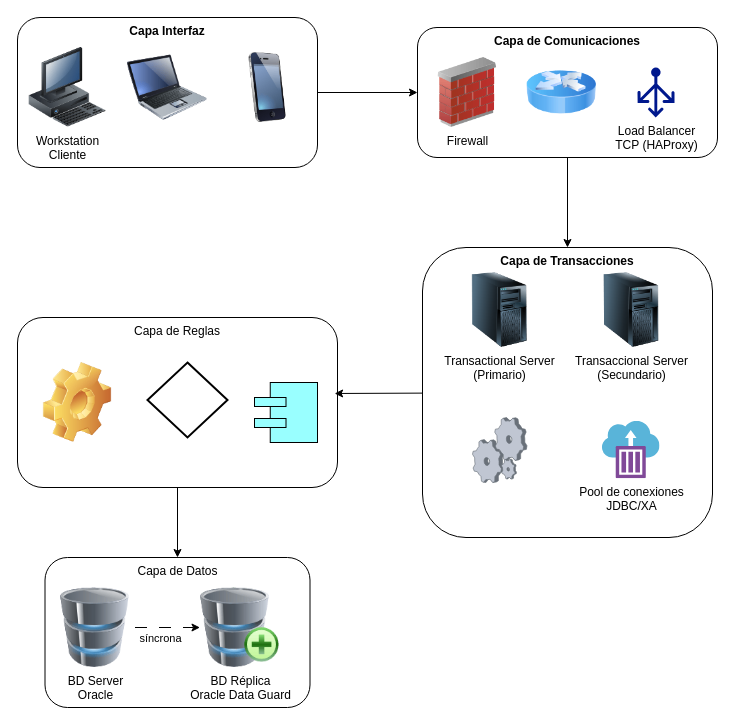
This 735x725 diagram has some shape labels left out. The centre of each missing label's shape, as x and y in pixels:
Cliente remoto (laptop): pixel 167 87
Cliente remoto (móvil): pixel 267 87
Componentes de servicio: pixel 286 412
Motor de reglas: pixel 77 402
Router: pixel 561 92
Transaction Manager XA Coordinator: pixel 499 449
Validadores: pixel 187 399
